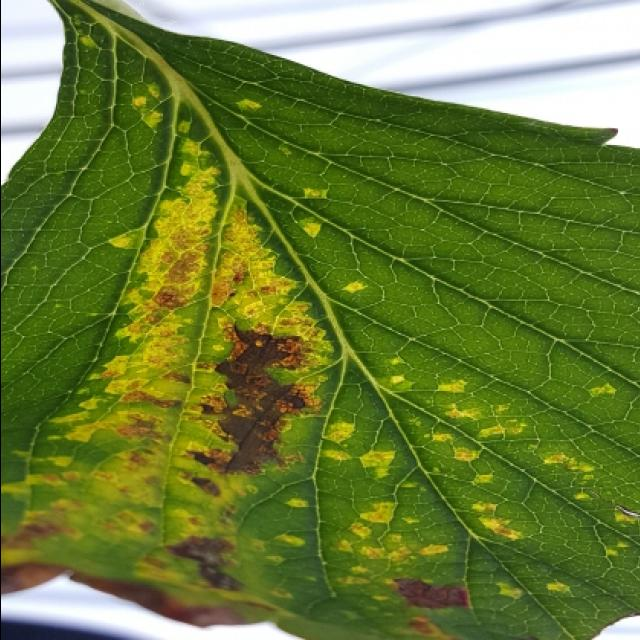Angular Leafspot: (2, 2, 640, 640)
